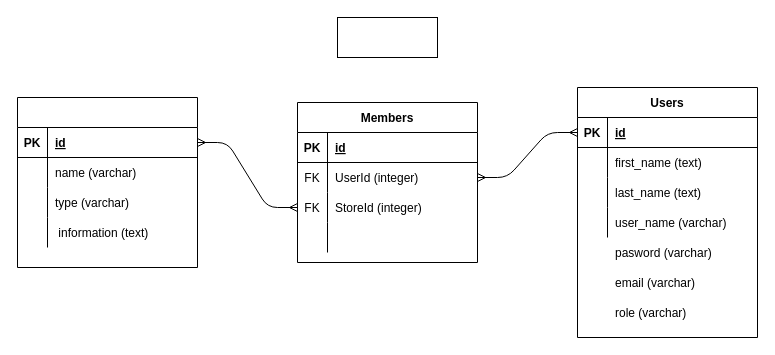
This 775x355 diagram has some shape labels left out. Here are the shapes that lost their labels. From the top down, the box of each, then its label:
(336, 16, 438, 58): Membership App
(16, 96, 198, 268): Stores
